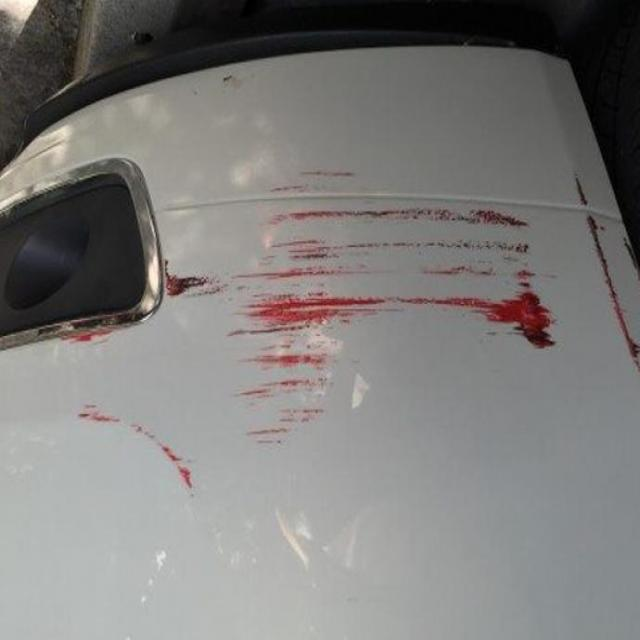scratch: (140, 155, 556, 518), (568, 166, 640, 378)
